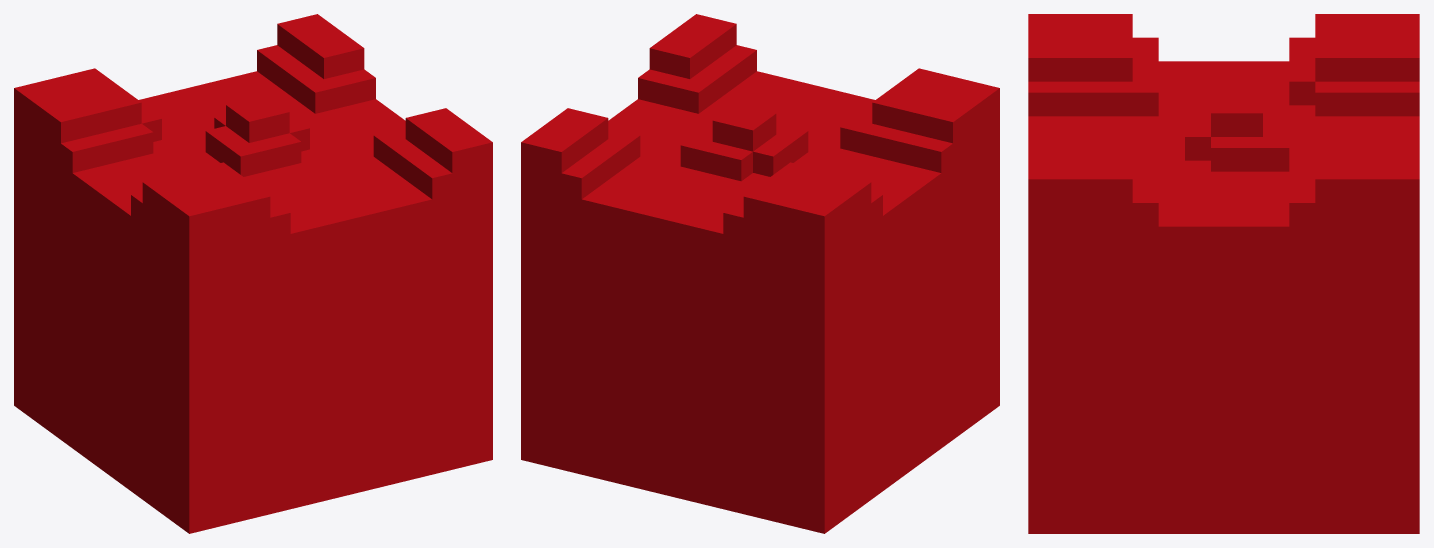
The model's file is red.obj.
The picture shows the model from 3 angles, left to right: view 1: azimuth 30°, elevation 25°; view 2: azimuth 150°, elevation 25°; view 3: azimuth 270°, elevation 25°; orthographic projection. The views are drawn at different scales.
Visible parts, largest first — view 1: Cube; view 2: Cube; view 3: Cube.
Boxes of the visible parts, box(x1,y1,x2,y2) form: Cube: box(14, 14, 492, 533); Cube: box(521, 14, 999, 533); Cube: box(1028, 14, 1419, 533).
Size of the model in its own units: 2.08 by 2.08 by 2.08.
